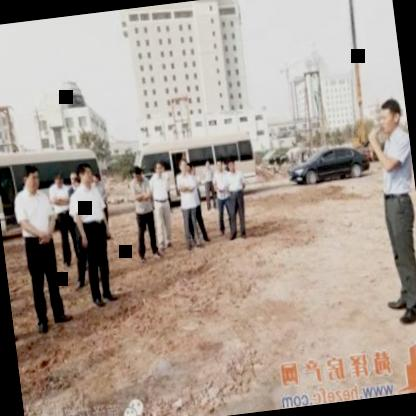head: (375, 92, 408, 136), (18, 160, 42, 196), (75, 158, 95, 188), (129, 163, 146, 188), (50, 168, 66, 192), (225, 154, 240, 174), (150, 157, 164, 178), (176, 154, 190, 174), (213, 157, 225, 176)
